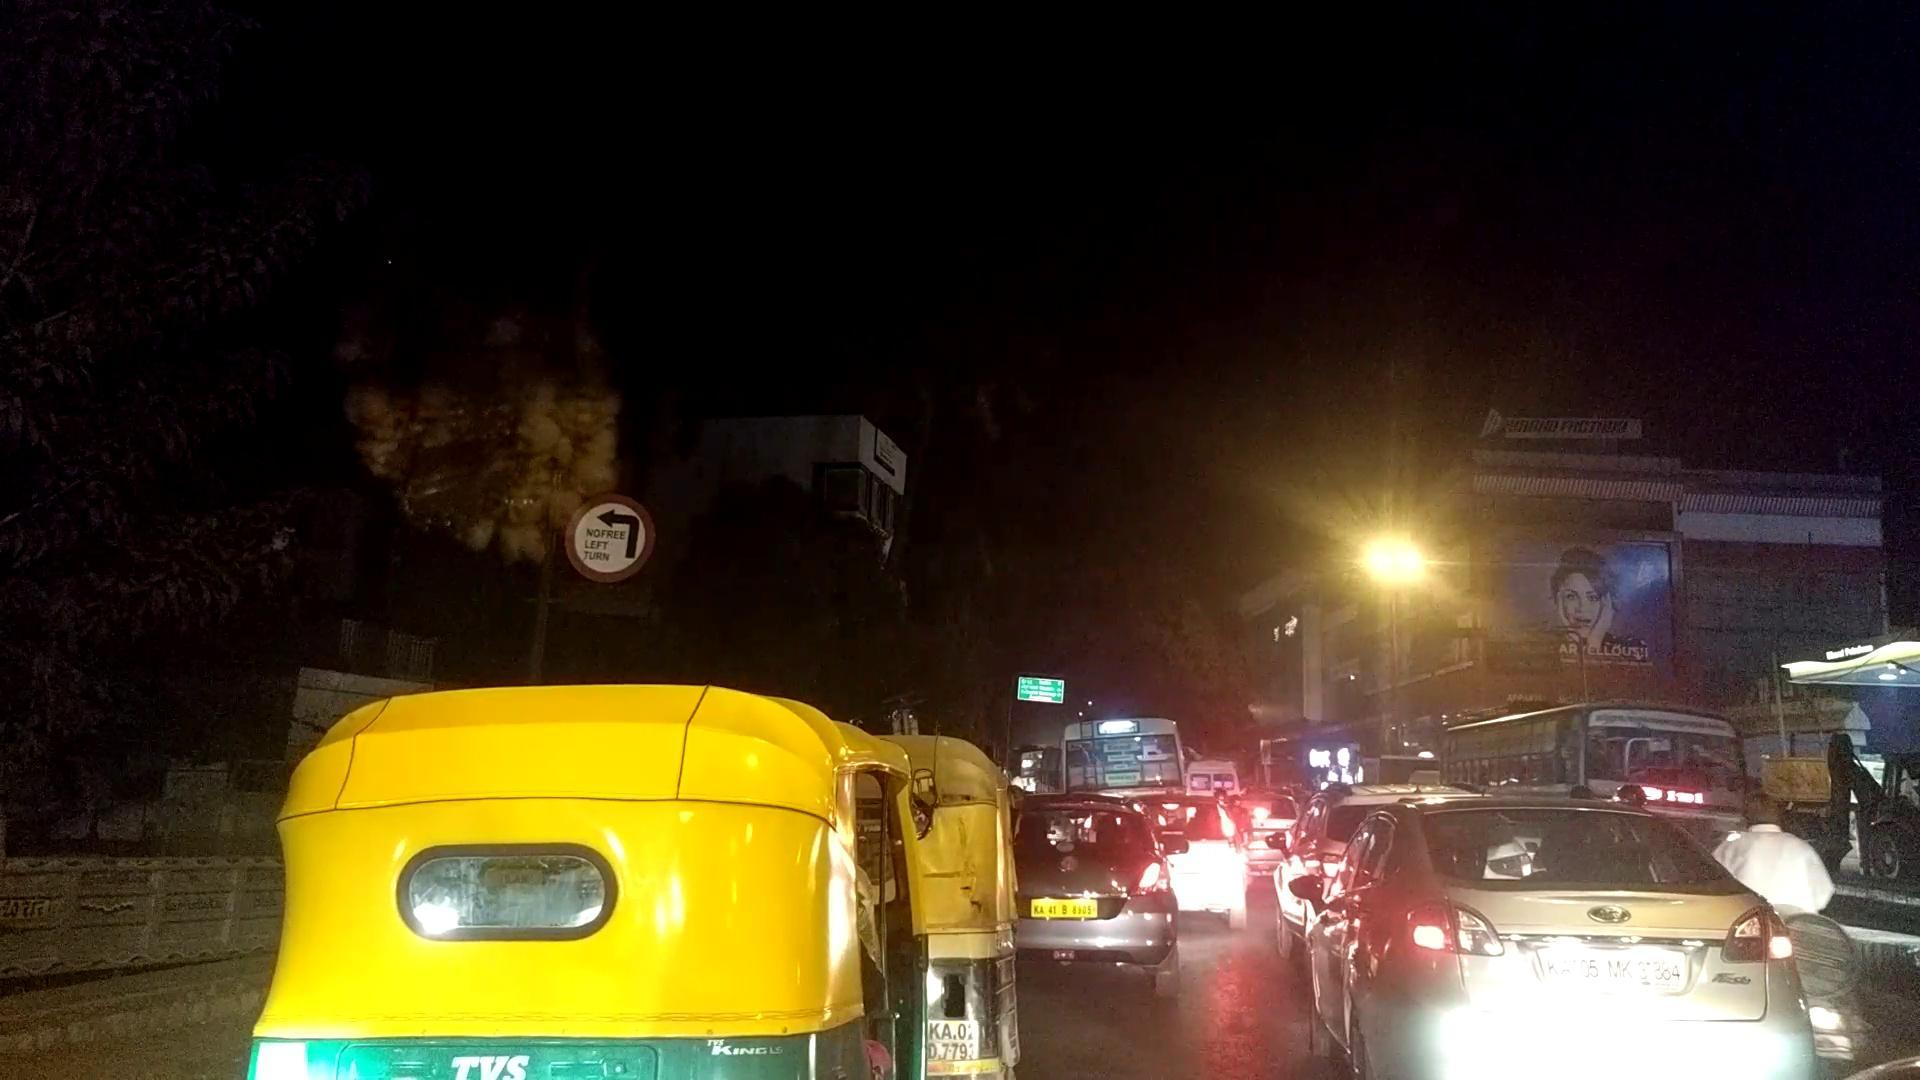on: (1200, 363, 1567, 771)
